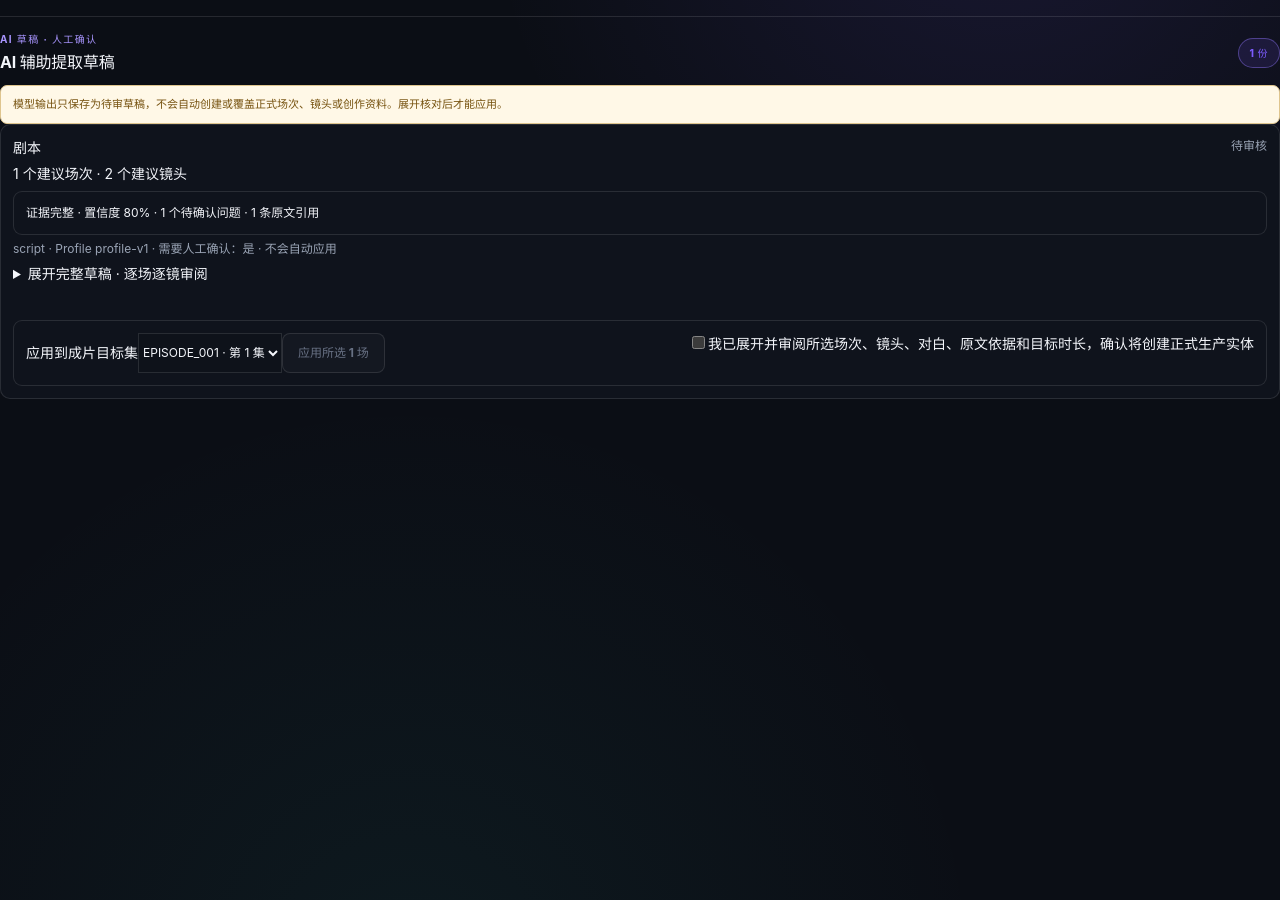
Test: AIDraftReviewPanel › labels persisted suggestions as awaiting review and exposes an explicit apply action
This screenshot has width=1280, height=900.
Check: the text "待审核" is shown, box [1231,137,1267,158]
Check: the text "1 个建议场次 · 2 个建议镜头" is shown, box [13,165,187,182]
Click the heading "展开完整草稿 · 逐场逐镜审阅" at (118, 273), box [28,265,208,282]
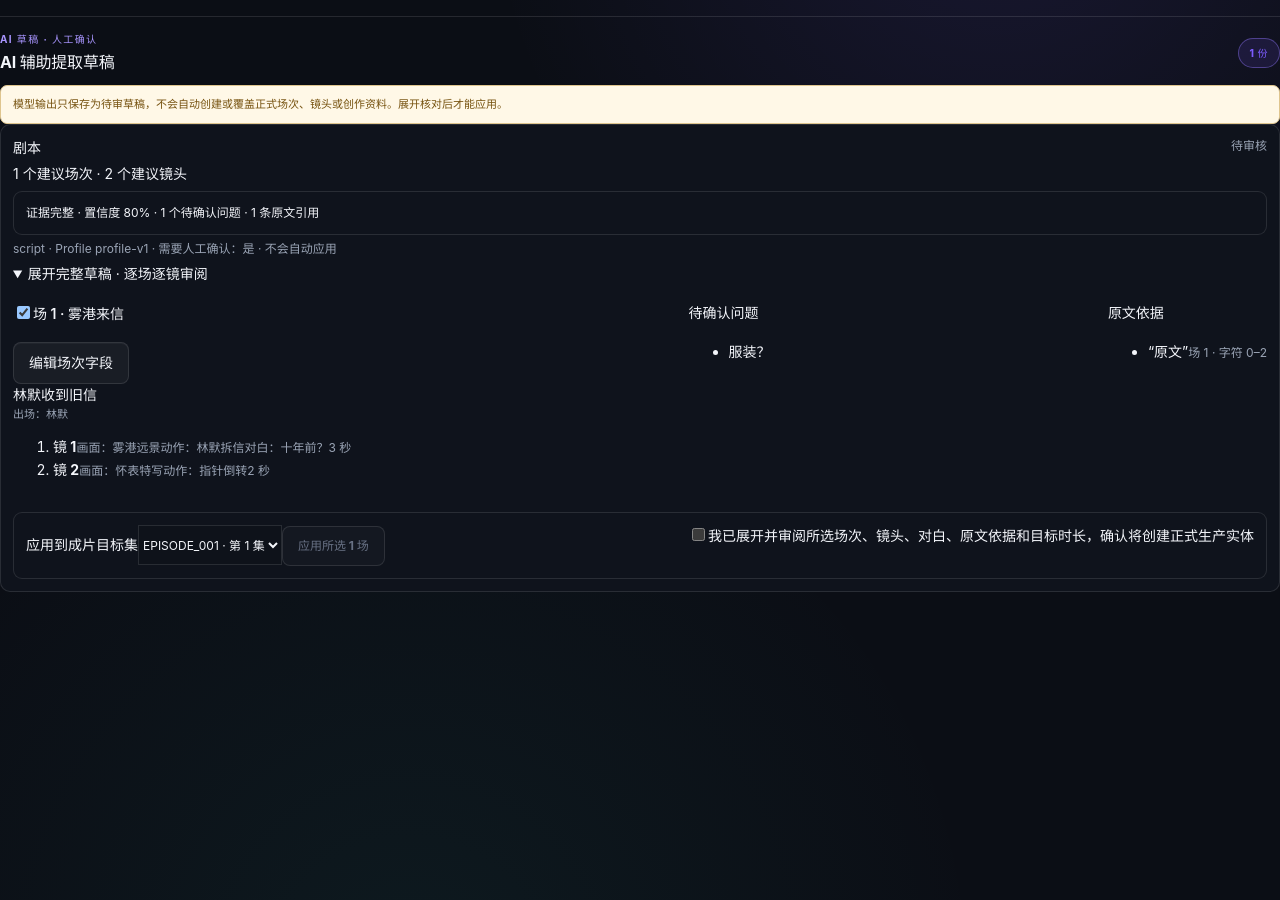
Check: the text "场 1 · 雾港来信" is shown, box [13,305,124,322]
Check: the text "画面：雾港远景" is shown, box [76,440,160,456]
Check: the list item "服装？" is shown, box [729,341,771,363]
